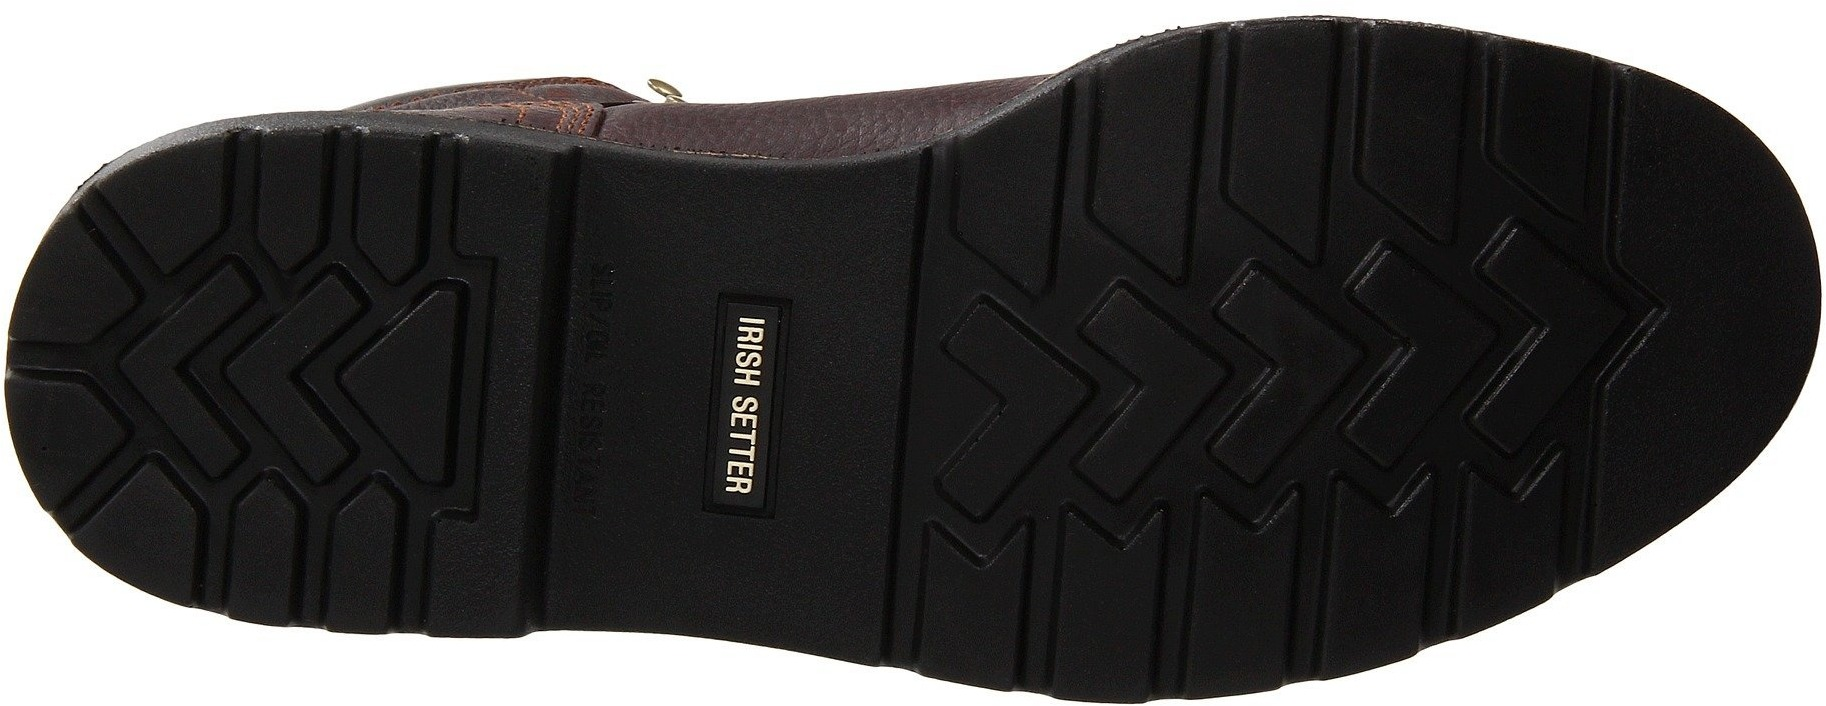chevron: (1409, 205, 1675, 466), (1035, 269, 1271, 504), (906, 287, 1114, 528), (115, 250, 300, 511), (1180, 257, 1388, 485)
other: (781, 170, 908, 285), (674, 518, 797, 629), (1691, 252, 1811, 361)
quad: (1222, 22, 1471, 246), (678, 281, 831, 531), (1342, 3, 1485, 250), (705, 270, 811, 513)
text: (678, 281, 831, 531), (705, 270, 811, 513), (695, 302, 797, 398), (707, 421, 793, 504), (564, 260, 640, 339), (573, 395, 639, 458)
triangle: (311, 261, 559, 507)
